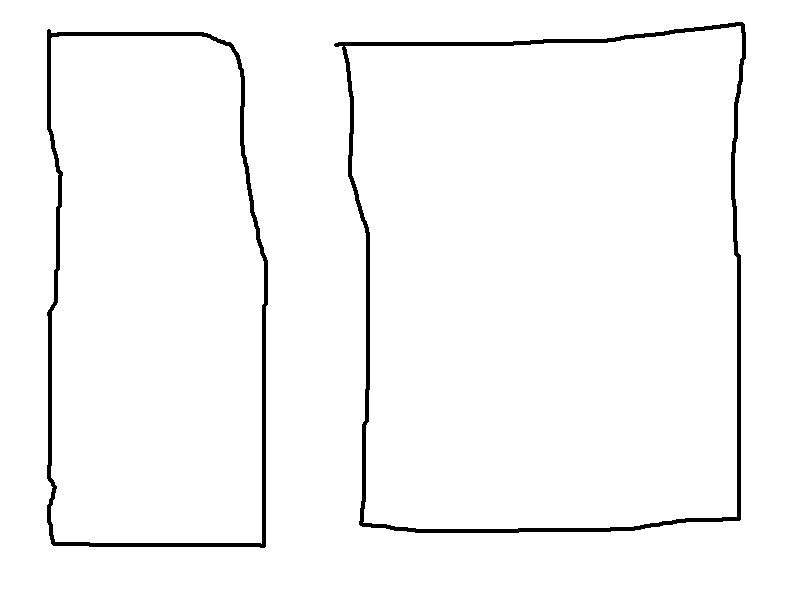rect: (326, 17, 759, 539), (39, 21, 275, 556)
